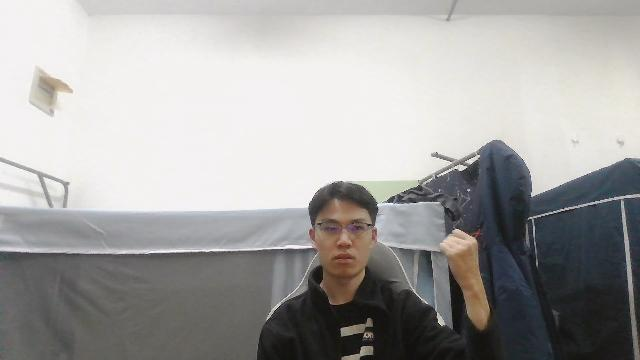ten: (437, 227, 481, 284)
